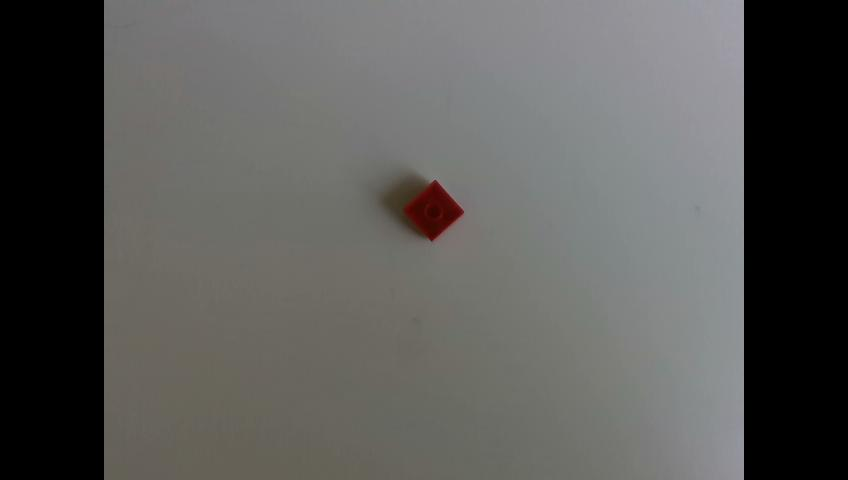2x2_red: (404, 179, 464, 240)
